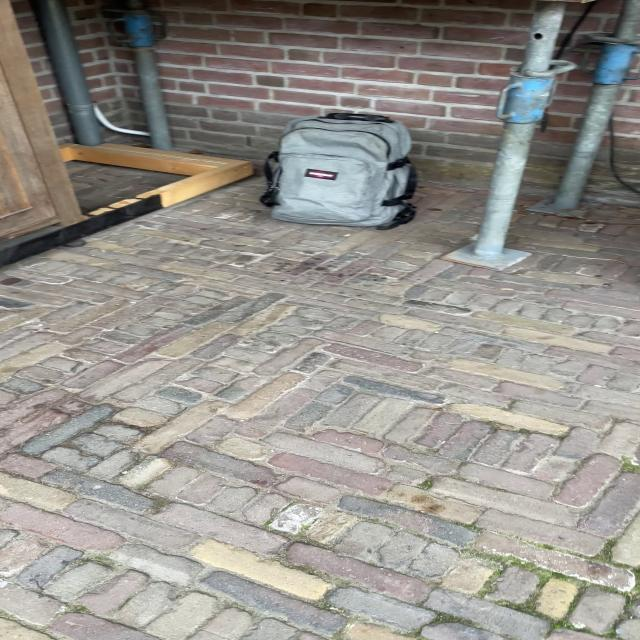backpack: (253, 108, 427, 232)
